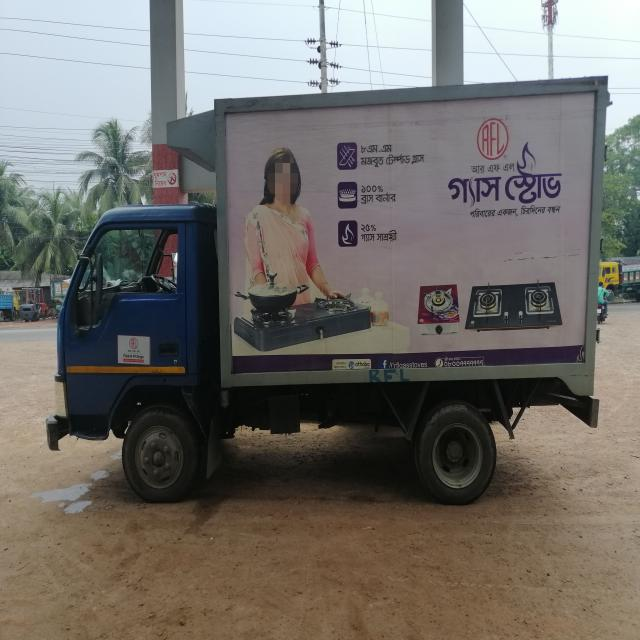Pick-up-van: (30, 59, 632, 526)
